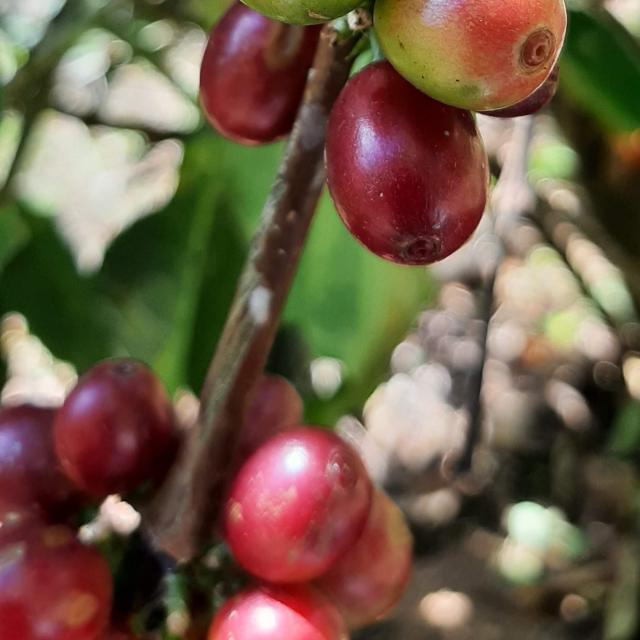Ripe: (326, 60, 490, 265), (224, 427, 373, 585), (199, 1, 322, 144), (52, 359, 173, 497), (0, 526, 111, 640), (0, 405, 82, 522), (236, 375, 303, 469)
Unripe: (374, 0, 568, 111), (313, 489, 413, 631), (241, 0, 364, 24)
